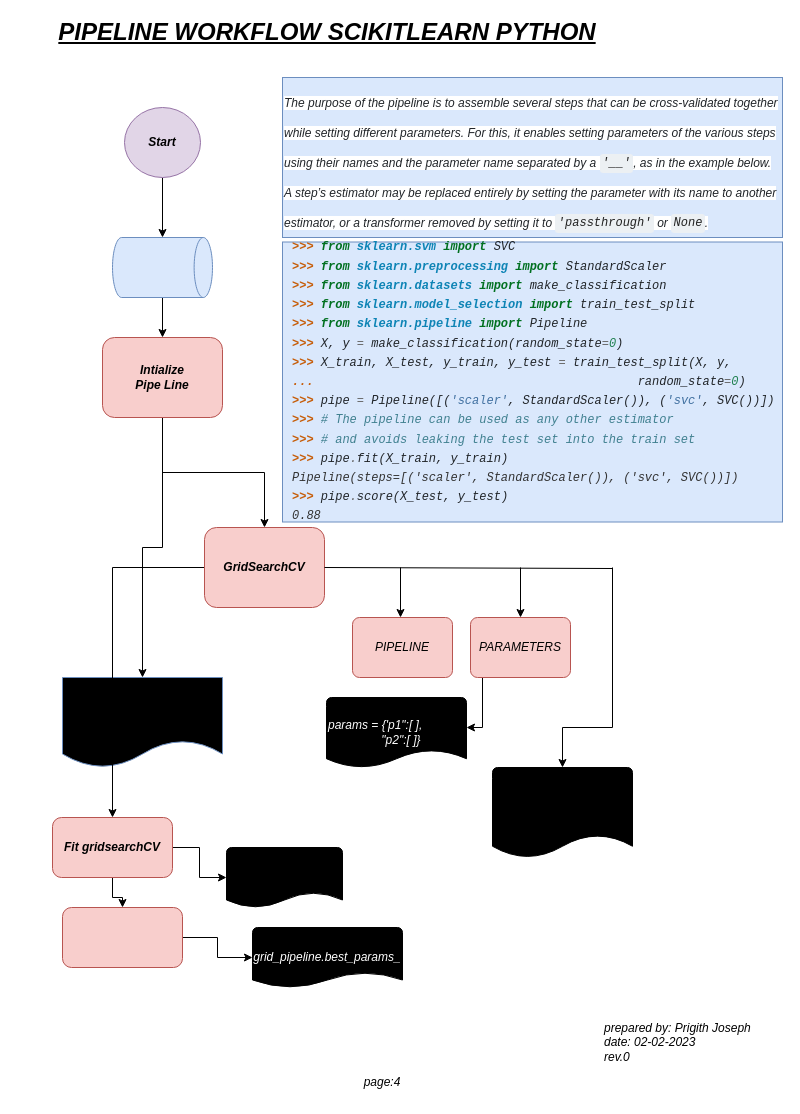
This 800x1114 diagram has some shape labels left out. The shapes that lost their labels are listed below. From the top down, each one's centre as x and y in pixels, then its label:
[162,267]: Preprocessed Data
[142,722]: pipeline = [("scalar", StandardScalar()), ("model", model())]
[562,812]: grids_pipeline= GridSearchCV(pipeline, params)
[284,877]: grid_pipeline.fit()
[122,937]: Best Params
